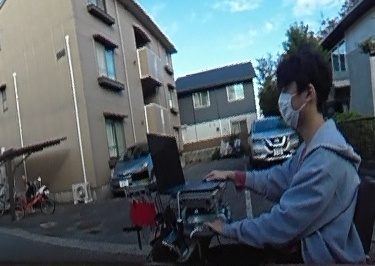person: (215, 51, 349, 266)
